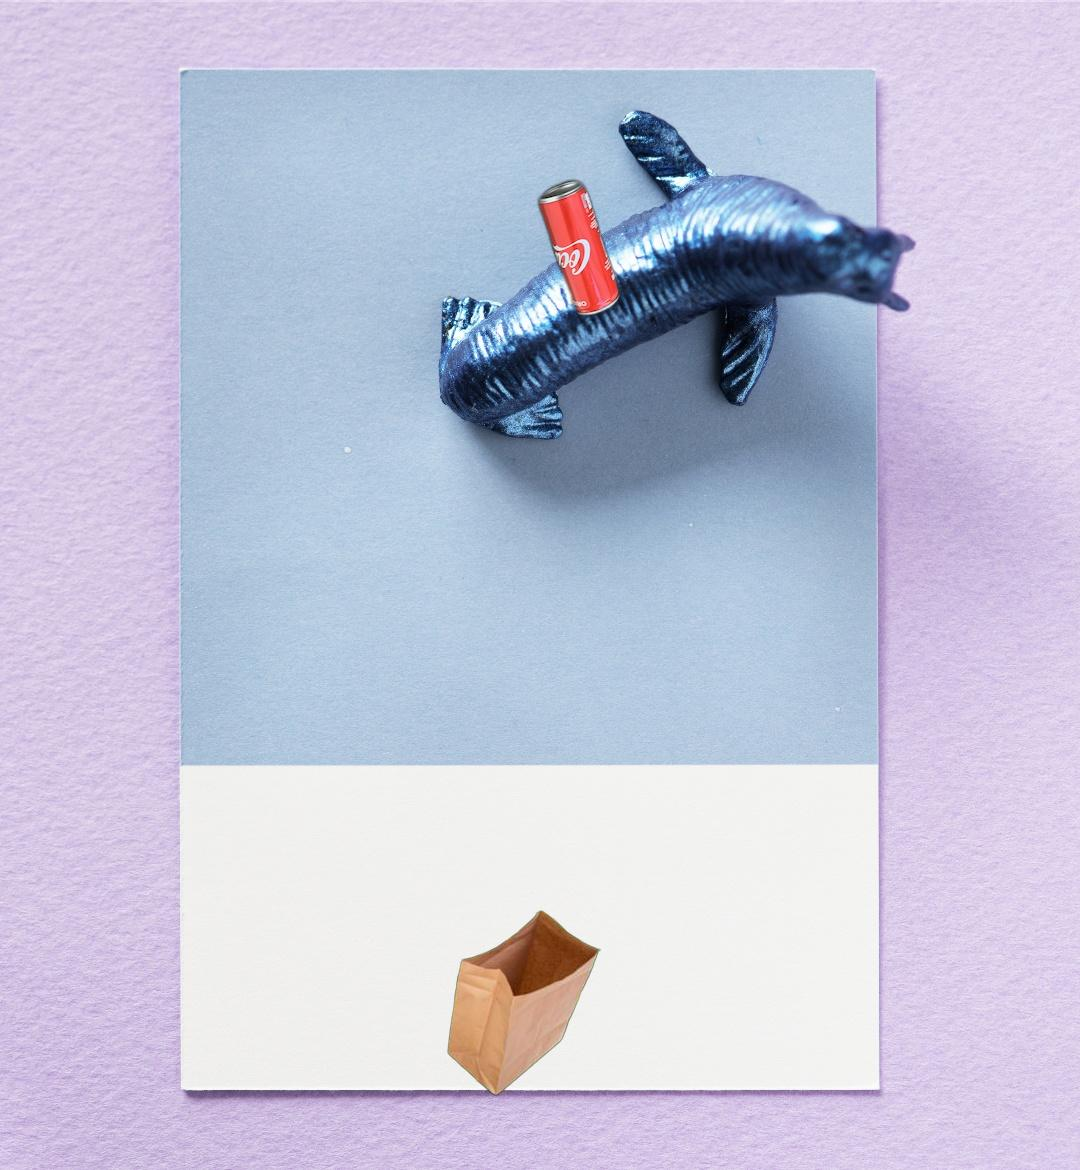metal-cans: (534, 174, 624, 322)
paper-bag: (446, 909, 602, 1099)
